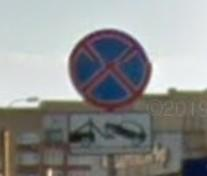No Parking: (68, 29, 153, 109)
